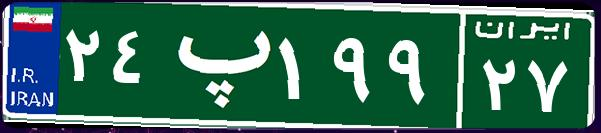1: (273, 28, 330, 110)
2: (57, 26, 110, 107), (475, 38, 525, 113)
4: (110, 28, 158, 105)
7: (525, 38, 570, 115)
9: (385, 28, 445, 110), (330, 28, 385, 110)
پ: (158, 15, 273, 115)
